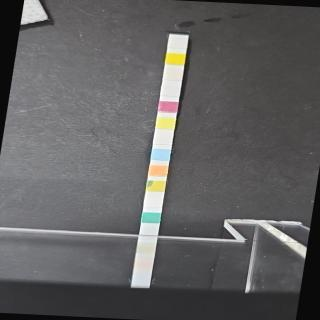mark: (148, 180, 166, 192), (150, 164, 168, 176), (157, 116, 175, 128), (160, 100, 178, 112), (162, 84, 180, 96), (153, 149, 170, 161), (170, 36, 186, 48), (142, 212, 160, 222), (166, 69, 182, 80), (145, 197, 162, 207), (167, 53, 184, 63), (156, 134, 172, 144)
